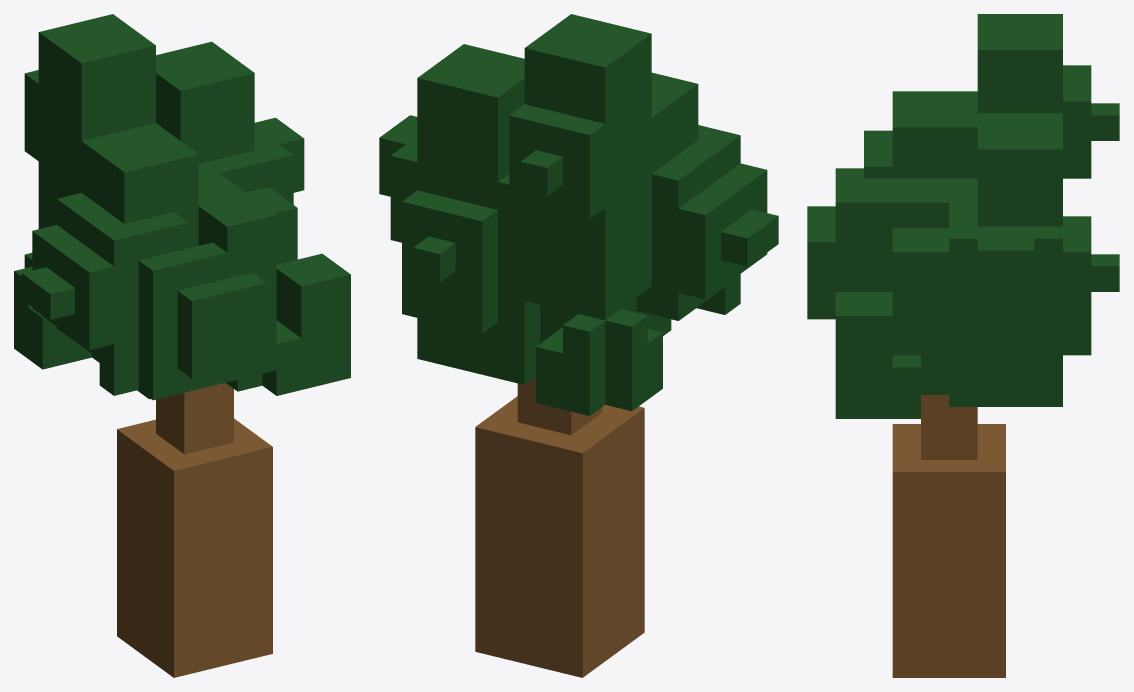
File: alive_tree_3.obj
3 renders of one model, left to right at view 1: azimuth 30°, elevation 25°; view 2: azimuth 150°, elevation 25°; view 3: azimuth 270°, elevation 25°, orthographic. The views are drawn at different scales.
Bounding box in the file's own units: 12 × 23 × 11.
1 material, 1 textured.
